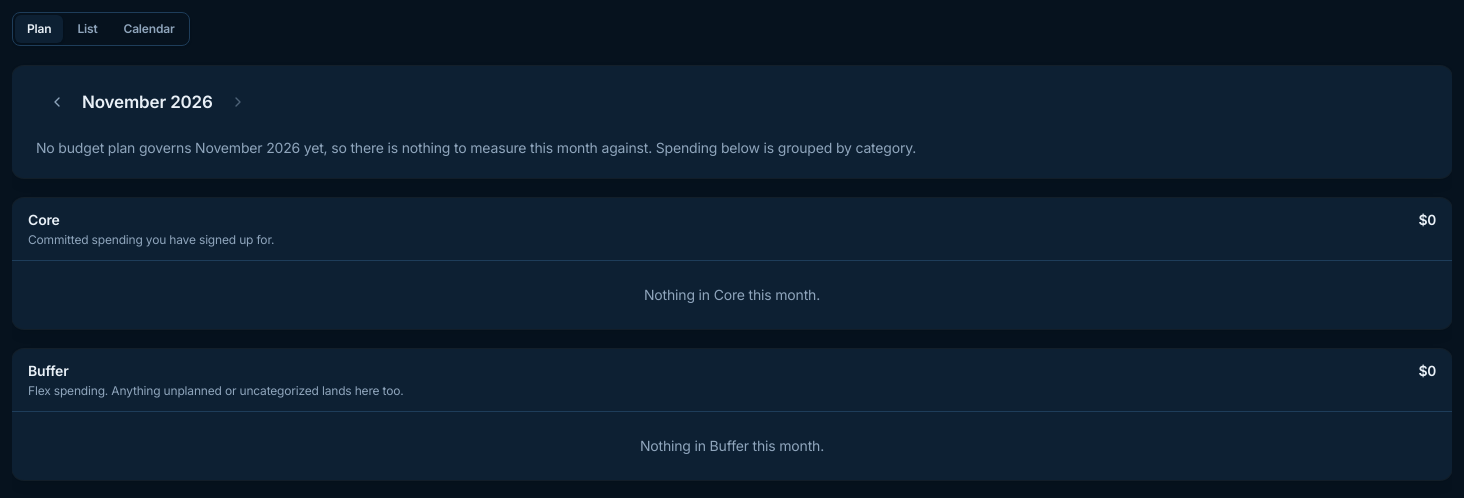
TransactionsSection account filter › narrows the feed to the chosen account
Click the radio button labelled "List".
click(87, 29)  # box [65, 15, 110, 43]
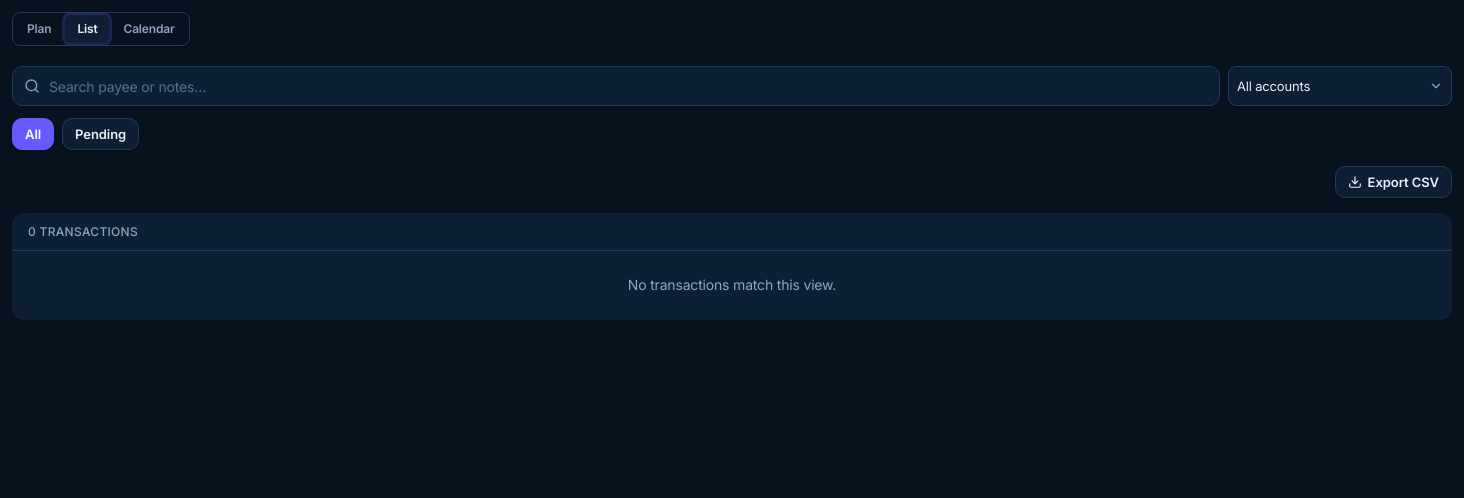
Click the dropdown named "Filter by account".
click(1340, 86)  # box [1228, 66, 1452, 106]
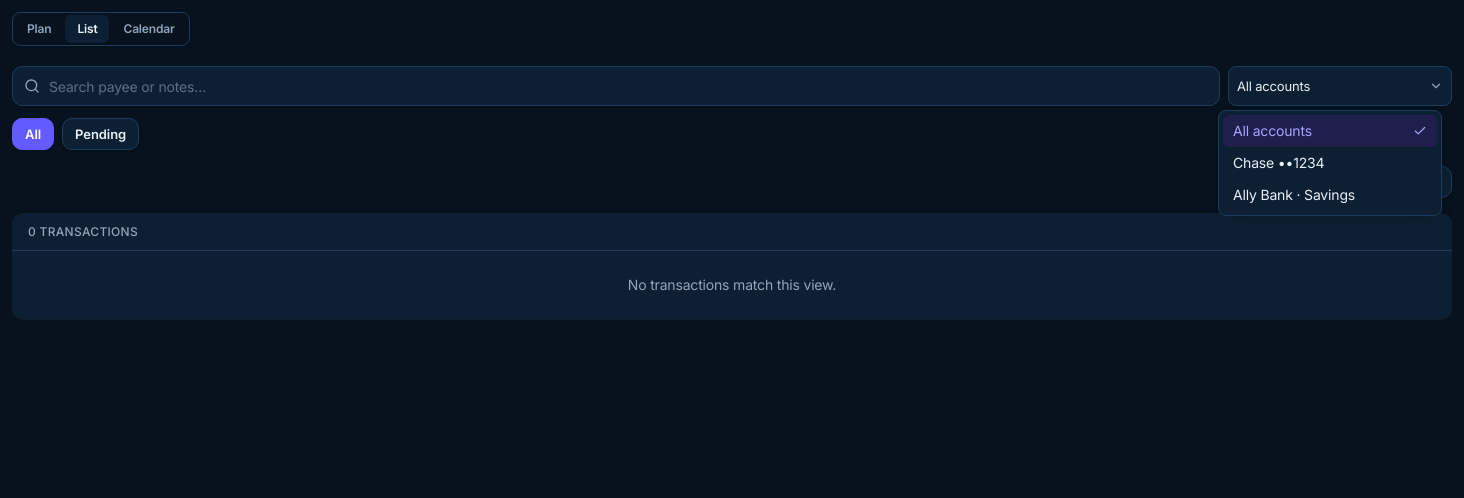
Click the option "Chase ••1234".
click(1279, 162)  # box [1233, 154, 1324, 171]
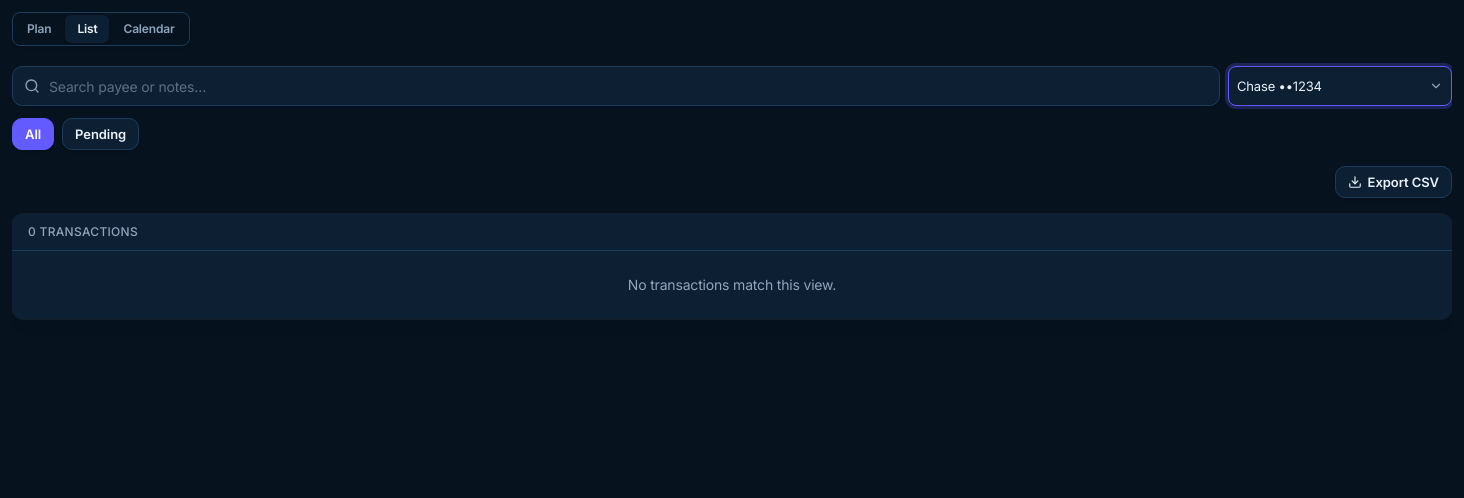
Result: the dropdown named "Filter by account" reads "Chase ••1234" at [1228, 66, 1452, 106]
